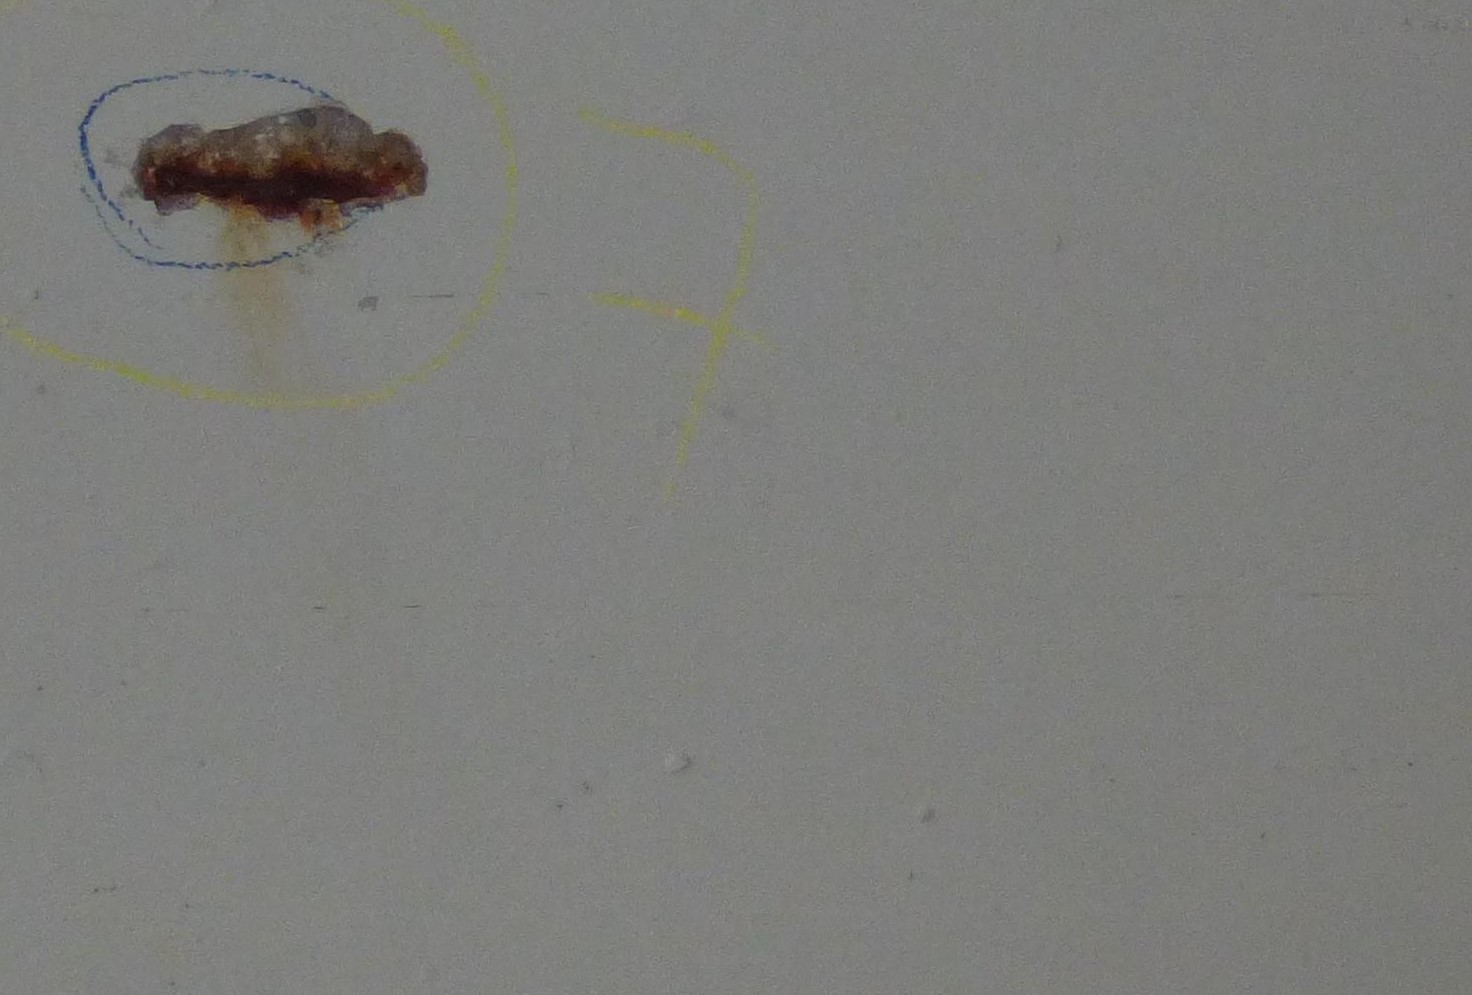Exposed reinforcement: (155, 167, 363, 202)
Spalling: (128, 105, 429, 234)
